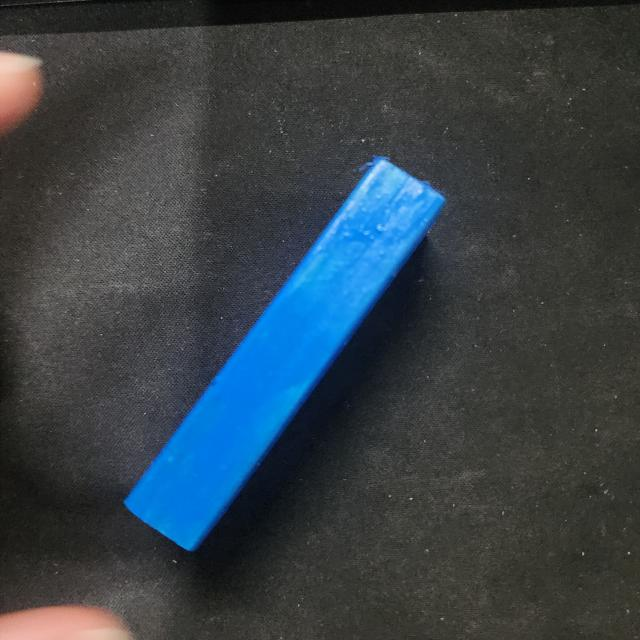blue: (122, 152, 453, 557)
